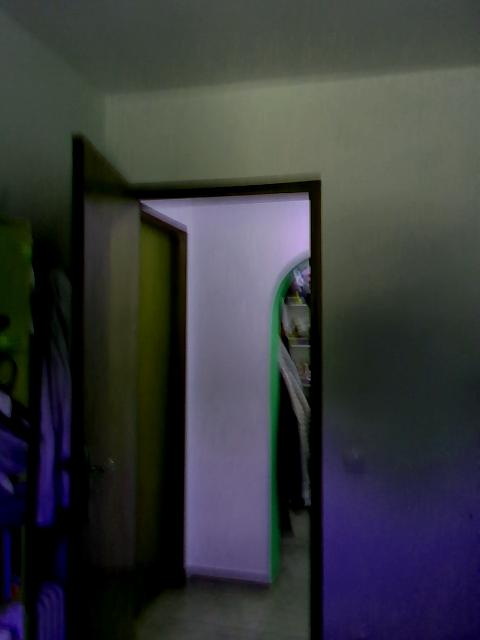open_door: (67, 173, 328, 639)
